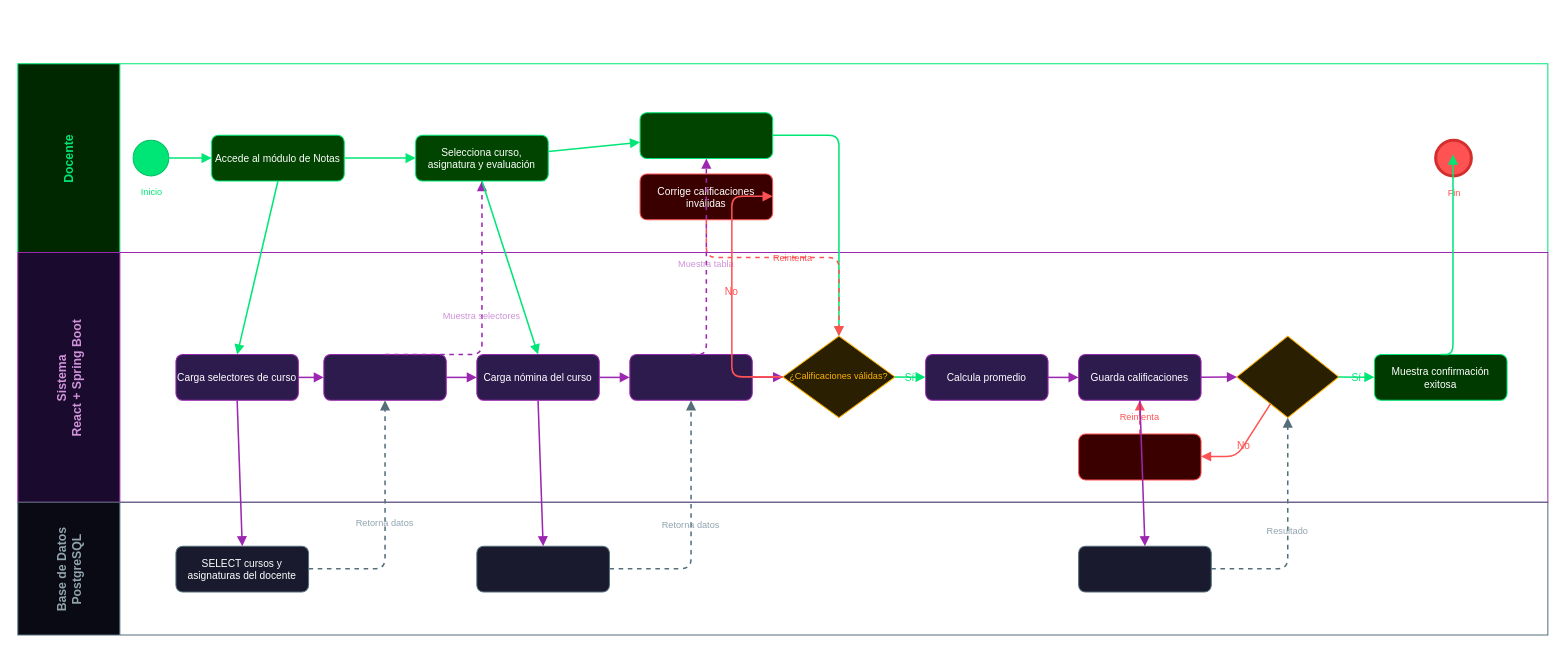
This 1566x653 diagram has some shape labels left out. Here are the shapes that lost their labels. From the top down, the centre of each, then its label:
the point at 706,135: Ingresa calificaciones (1.0 - 7.0)
the point at 384,376: Muestra selectores de curso
the point at 690,376: Muestra tabla de notas
the point at 1287,376: ¿Guardado exitoso?
the point at 1139,456: Muestra error al guardar
the point at 542,568: SELECT estudiantes del curso
the point at 1144,568: INSERT calificaciones y promedio
